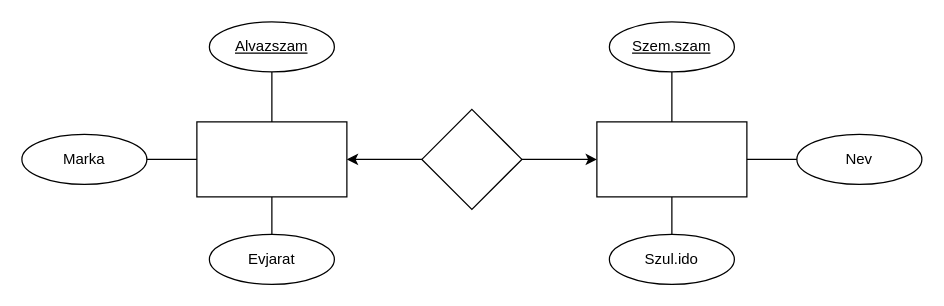
This 944x306 diagram has some shape labels left out. Here are the shapes that lost their labels. From the top down, the centre of each, then its label:
the point at 271,159: Auto
the point at 471,158: A-T
the point at 671,159: Tulajdonos
